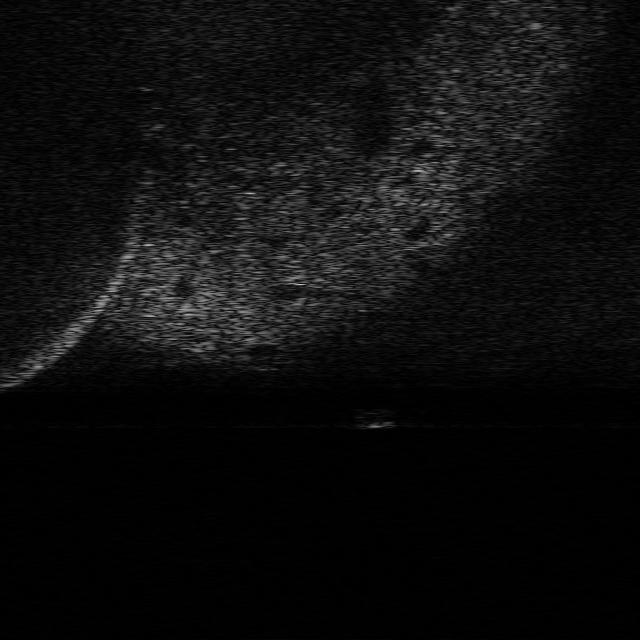cube: (350, 407, 394, 430)
